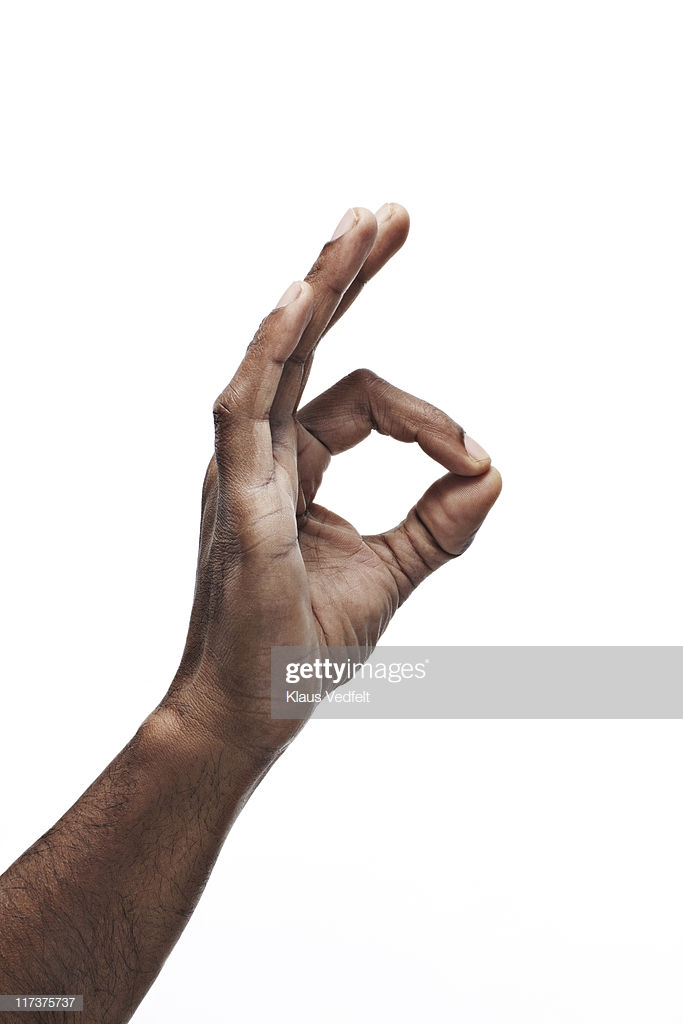oksign: (195, 201, 501, 720)
